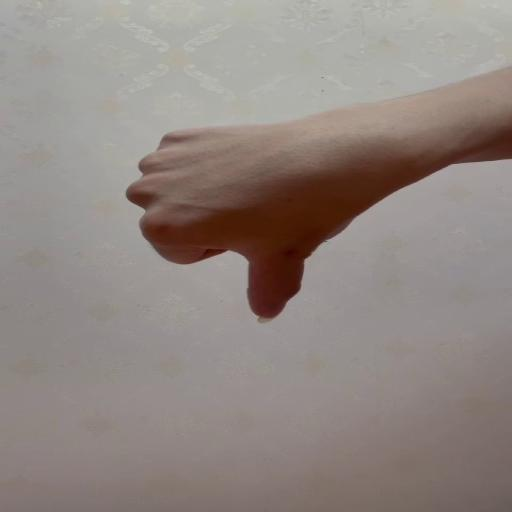thumbs_down: (124, 123, 386, 325)
